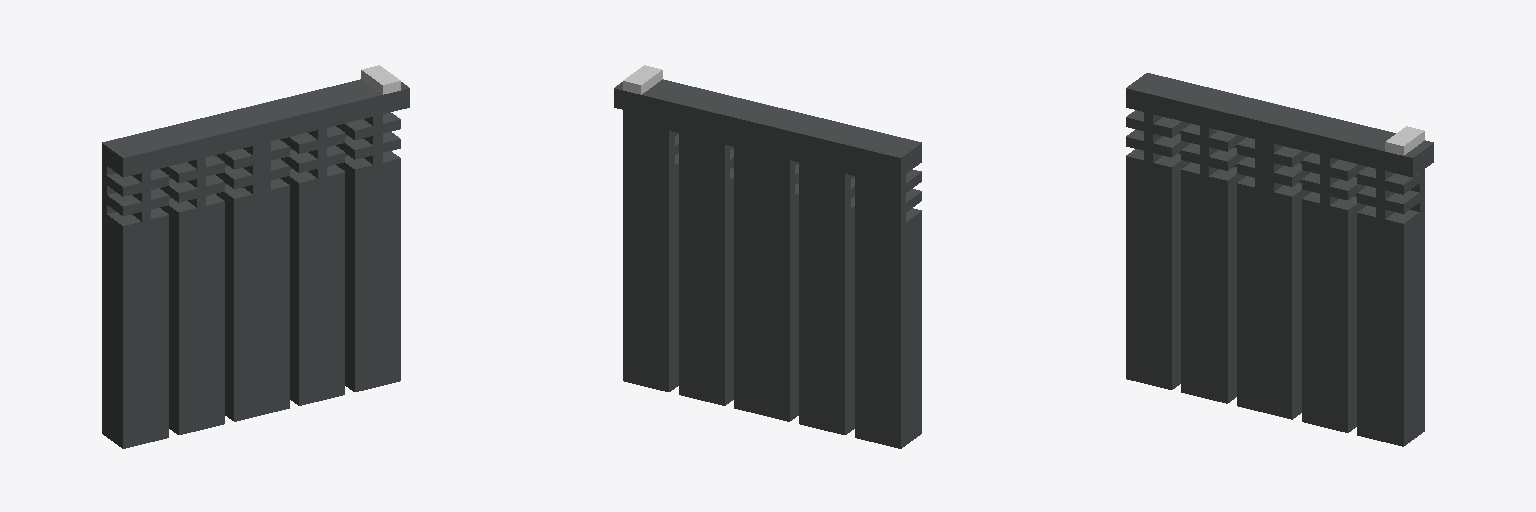
3 renders of one model, left to right at view 1: azimuth 30°, elevation 25°; view 2: azimuth 150°, elevation 25°; view 3: azimuth 330°, elevation 25°, orthographic.
Visible parts, largest first — view 1: object 1; view 2: object 1; view 3: object 1.
Boxes of the visible parts, x1,y1,x2,y2 form: object 1: [102, 65, 409, 448]; object 1: [614, 65, 921, 448]; object 1: [1126, 73, 1433, 446].
Size of the model in its own units: 3.1 by 3.1 by 0.4.
Materials: 1 (1 with a texture image).